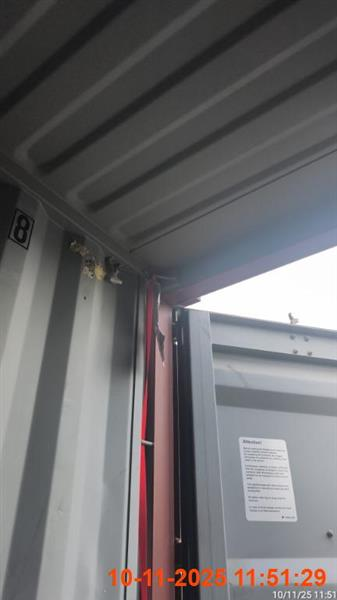hole: (0, 3, 336, 598)
